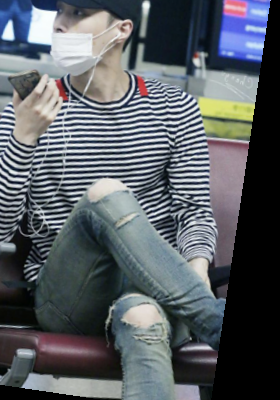mask_weared_incorrect: (27, 1, 142, 89)
